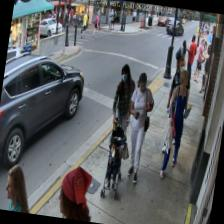person: (119, 71, 158, 183), (158, 68, 196, 180), (104, 63, 138, 172), (160, 57, 194, 156), (56, 164, 98, 222), (2, 162, 36, 213)
